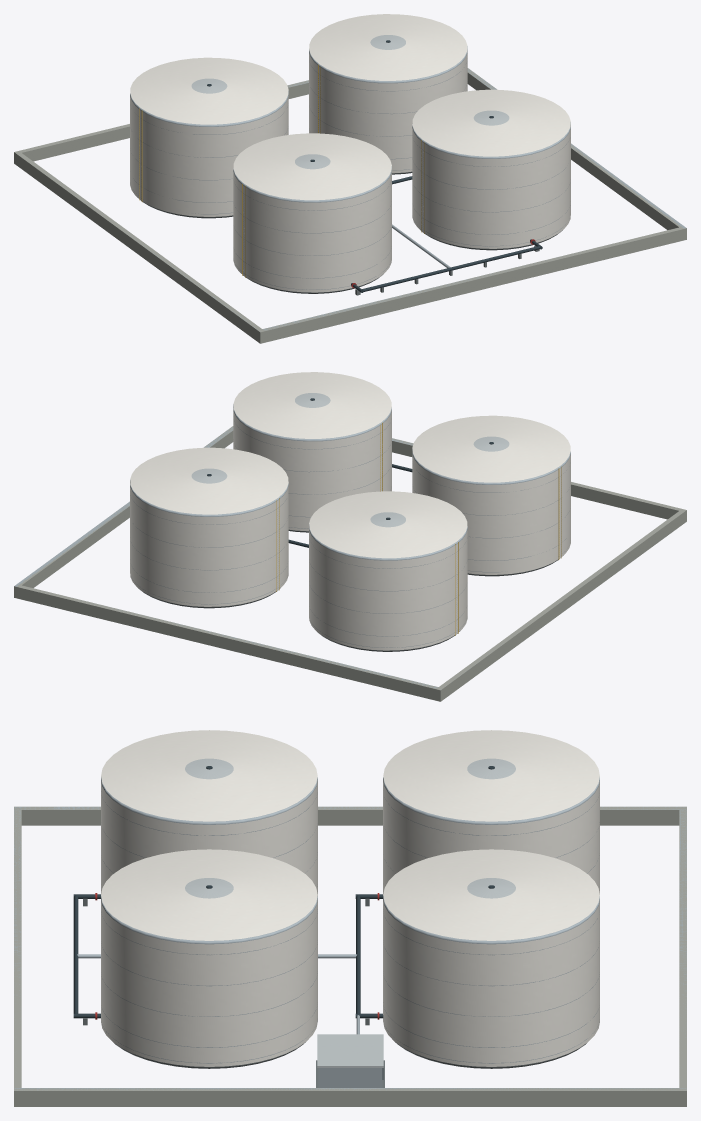
The model's file is fuel_farm_4.glb.
3 views of the same model, one above another, from view 1: azimuth 30°, elevation 25°; view 2: azimuth 150°, elevation 25°; view 3: azimuth 270°, elevation 25° (orthographic). The views are drawn at different scales.
Parts seen in each view (by area): view 1: fuel_farm_4; view 2: fuel_farm_4; view 3: fuel_farm_4.
Part boxes in pixels (x1,y1,x2,y2): fuel_farm_4: [14, 14, 686, 343]; fuel_farm_4: [14, 372, 686, 701]; fuel_farm_4: [14, 730, 686, 1106].
Size of the model in its own units: 62 by 14 by 62.
Materials: 8 (8 with a texture image).
